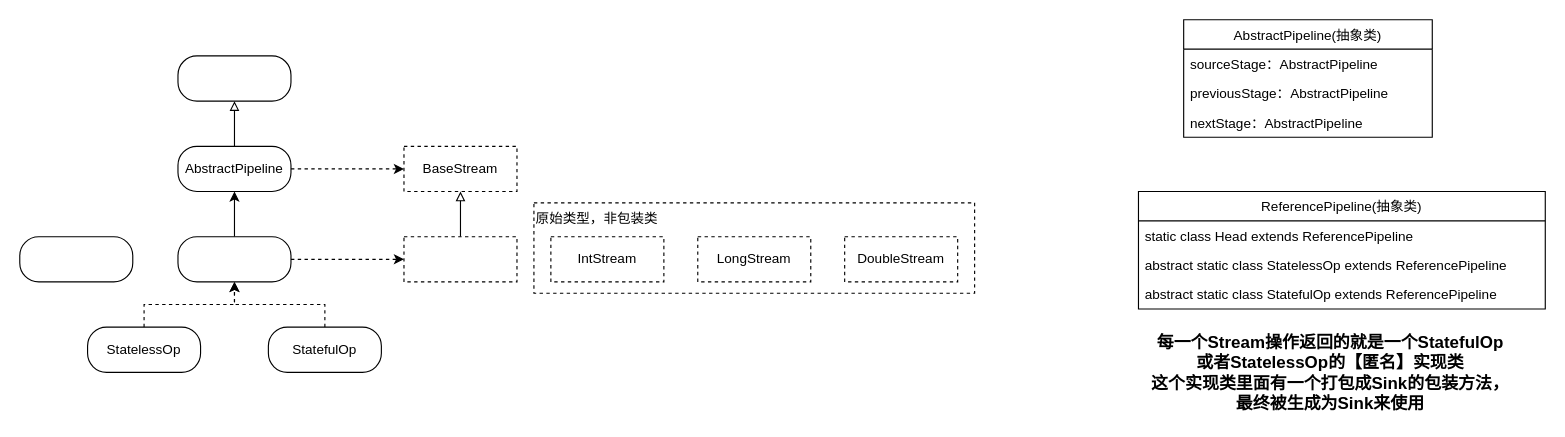
Image size: 1565x437. Some labels were removed from this diagram. The centre of each missing label's shape, as x and y in pixels:
Int/Double/Long: the point at 76,259
PipelineHelper: the point at 234,78
ReferencePipeline: the point at 234,259
Stream: the point at 460,259
